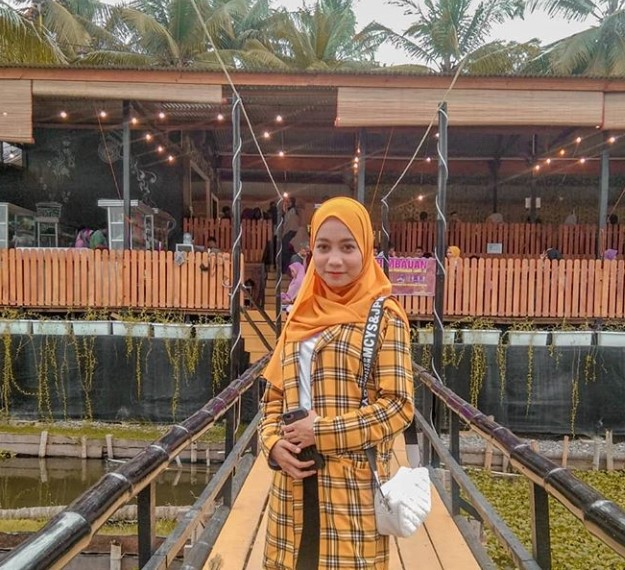face_no_mask: (309, 203, 368, 291)
